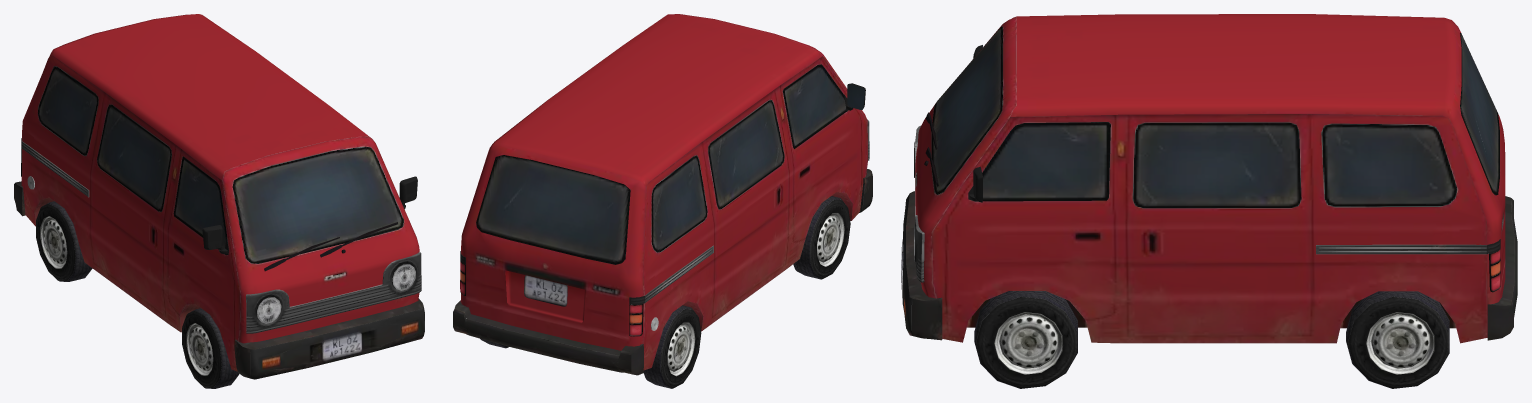
File: traffic-van-maroon.glb
3 renders of one model, left to right at view 1: azimuth 30°, elevation 25°; view 2: azimuth 150°, elevation 25°; view 3: azimuth 270°, elevation 25°, orthographic. The views are drawn at different scales.
Parts seen in each view (by area): view 1: Object_180; view 2: Object_180; view 3: Object_180.
Boxes of the visible parts, bbox=[...] form: Object_180: bbox=[14, 14, 424, 388]; Object_180: bbox=[453, 14, 872, 388]; Object_180: bbox=[901, 14, 1517, 388].
Bounding box in the file's own units: 0.162 × 0.1596 × 0.3167.
Materials: 1 (1 with a texture image).
